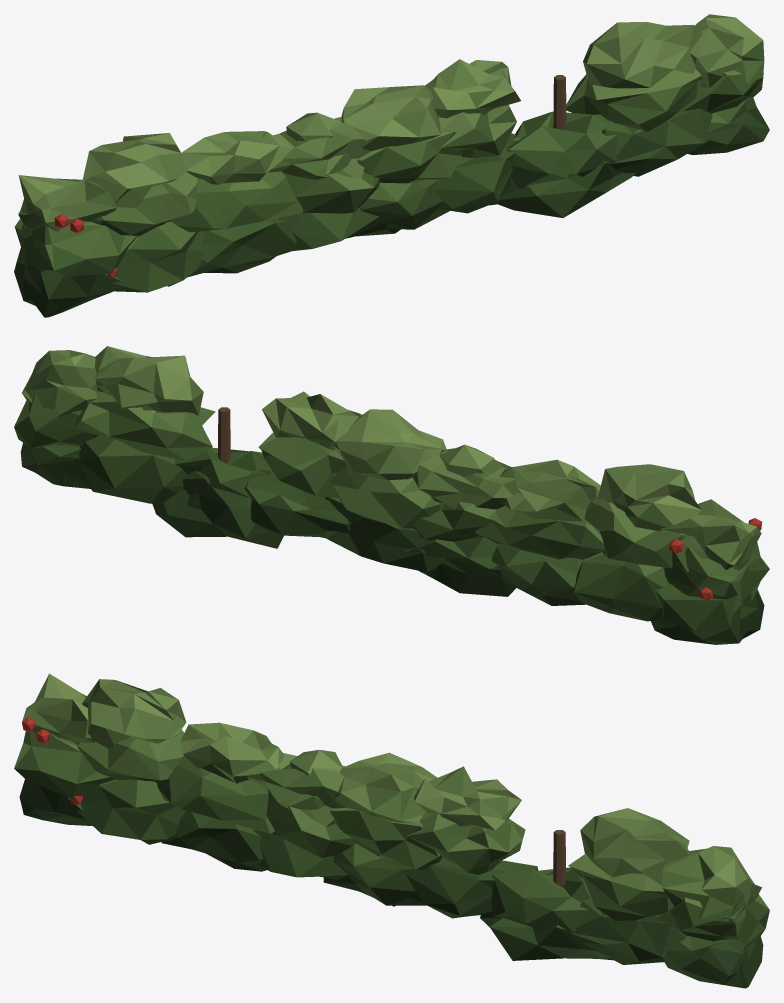
File: lwf_hedge_straight_8m_c_v1.glb
3 renders of one model, top to bottom at view 1: azimuth 30°, elevation 25°; view 2: azimuth 150°, elevation 25°; view 3: azimuth 330°, elevation 25°, orthographic.
Visible parts, largest first — view 1: lwf_hedge_straight_8m_c_v1; view 2: lwf_hedge_straight_8m_c_v1; view 3: lwf_hedge_straight_8m_c_v1.
Boxes of the visible parts, x1=… form: lwf_hedge_straight_8m_c_v1: x1=14, y1=14, x2=769, y2=317; lwf_hedge_straight_8m_c_v1: x1=14, y1=346, x2=769, y2=644; lwf_hedge_straight_8m_c_v1: x1=14, y1=673, x2=769, y2=988.
Size of the model in its own units: 8.2 by 1.76 by 1.
1 material, 1 textured.
